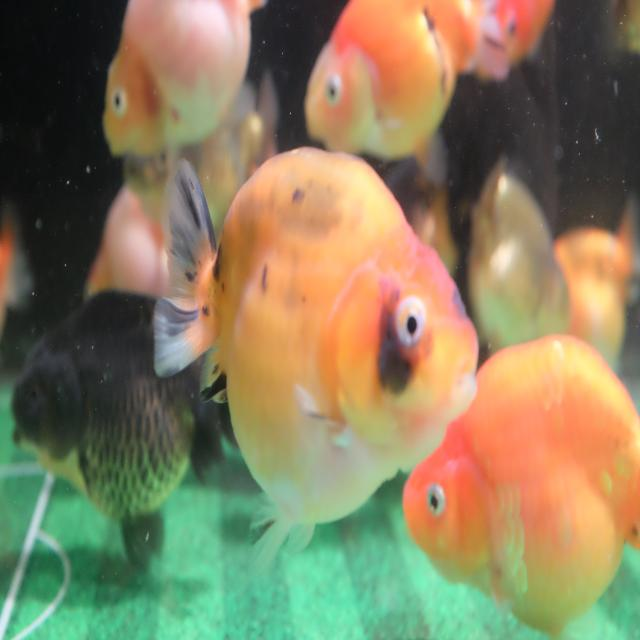Tilapia: (152, 145, 481, 576), (403, 332, 640, 636), (10, 286, 238, 576), (305, 0, 509, 162), (101, 0, 267, 162)
